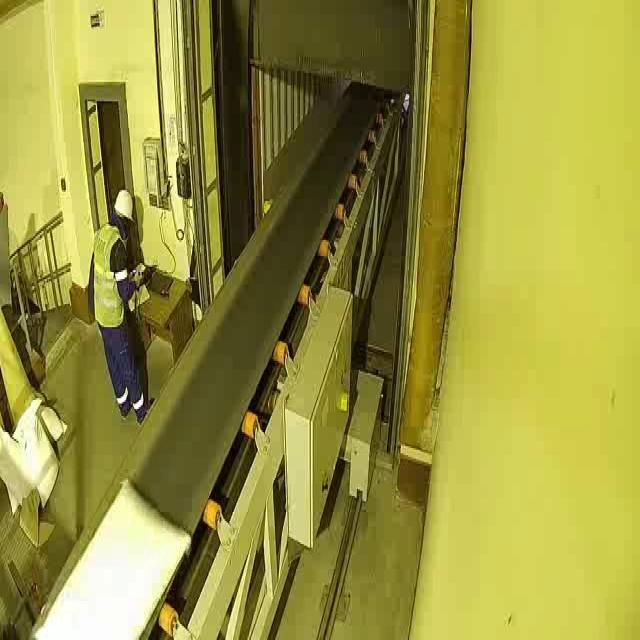bag: (30, 474, 191, 636)
